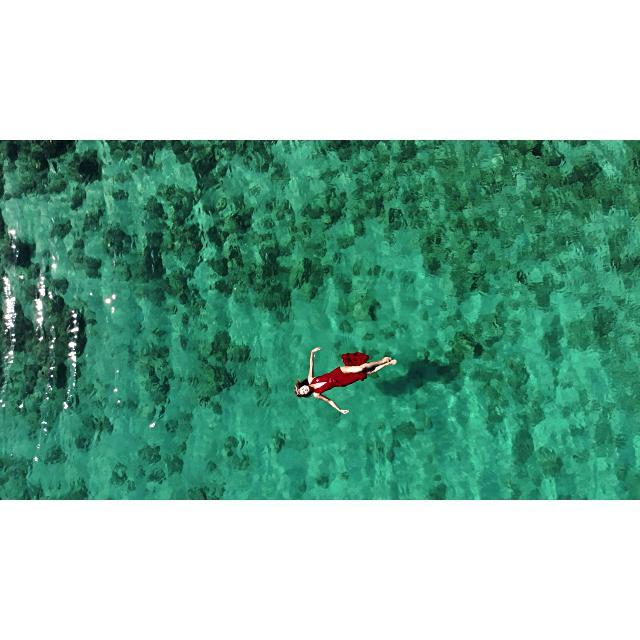human: (295, 347, 399, 417)
